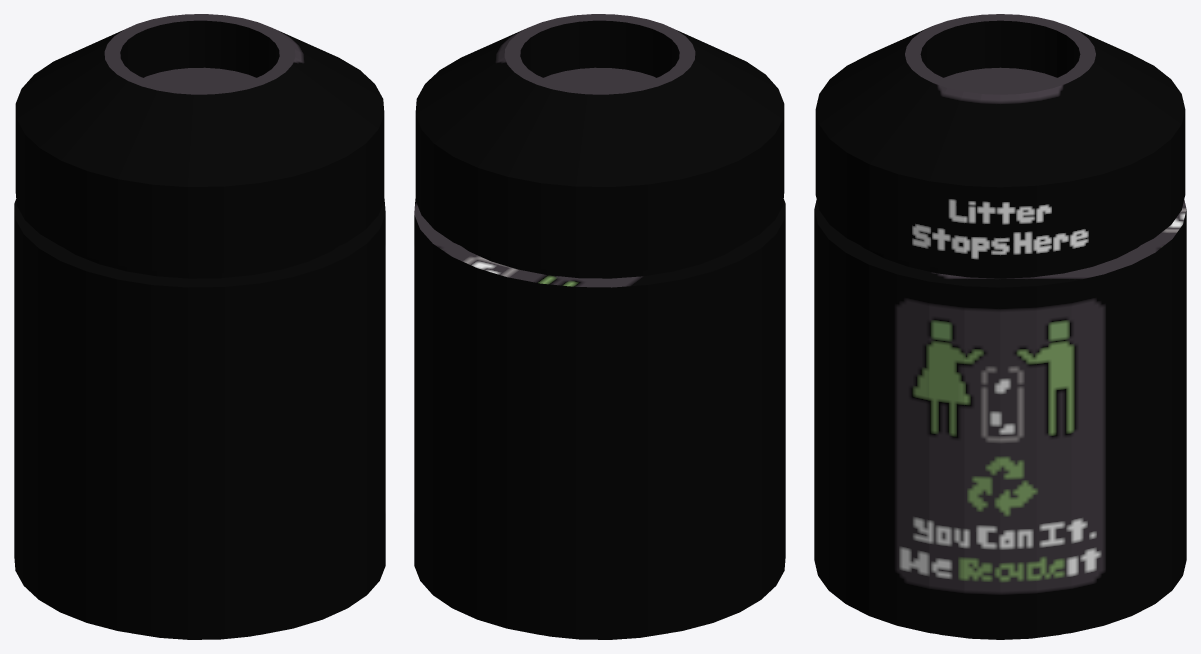
Rendered from trash_can.obj.
3 views of the same model, side by side, from view 1: azimuth 30°, elevation 25°; view 2: azimuth 150°, elevation 25°; view 3: azimuth 270°, elevation 25° (orthographic).
Visible parts, largest first — view 1: Cylinder; view 2: Cylinder; view 3: Cylinder.
Part boxes in pixels (x1=…): Cylinder: x1=14, y1=14, x2=385, y2=639; Cylinder: x1=414, y1=14, x2=785, y2=639; Cylinder: x1=814, y1=14, x2=1186, y2=639.
Bounding box in the file's own units: 2.4 × 3.7 × 2.4.
